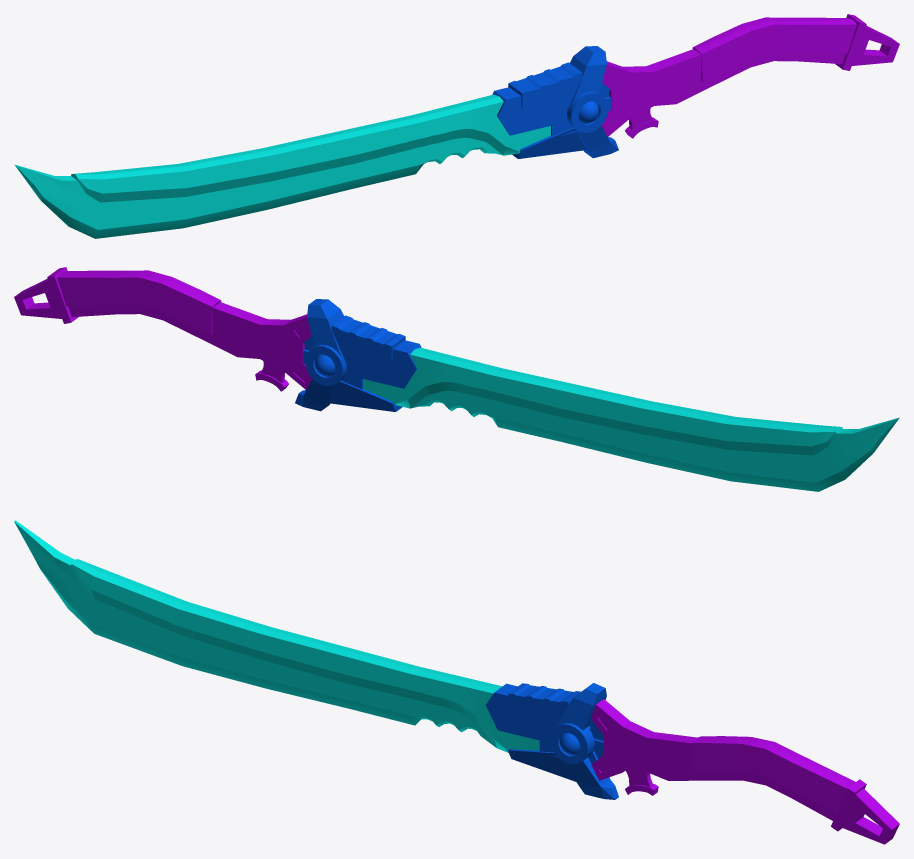
Rendered from Sword03_UVd.fbx.
3 views of the same model, one above another, from view 1: azimuth 30°, elevation 25°; view 2: azimuth 150°, elevation 25°; view 3: azimuth 330°, elevation 25° (orthographic).
Parts seen in each view (by area): view 1: blade, hilt, pCube2, pCube6, pCube4, pCube3, pCylinder1, trigger; view 2: blade, hilt, pCube2, pCube6, pCube4, pCube3, pCylinder1, trigger; view 3: blade, hilt, pCube6, pCube2, pCube4, pCylinder1, pCube3.
Boxes of the visible parts, left/top/right/bottom form: blade: left=14, top=94, right=550, bottom=238; hilt: left=601, top=14, right=899, bottom=136; pCube2: left=508, top=62, right=582, bottom=118; pCube6: left=569, top=46, right=618, bottom=158; pCube4: left=492, top=87, right=576, bottom=136; pCube3: left=512, top=127, right=586, bottom=158; pCylinder1: left=567, top=91, right=608, bottom=132; trigger: left=625, top=108, right=658, bottom=138; blade: left=363, top=347, right=899, bottom=491; hilt: left=14, top=267, right=312, bottom=389; pCube2: left=331, top=315, right=405, bottom=371; pCube6: left=295, top=299, right=344, bottom=411; pCube4: left=341, top=340, right=421, bottom=389; pCube3: left=327, top=380, right=402, bottom=411; pCylinder1: left=305, top=344, right=346, bottom=385; trigger: left=255, top=361, right=288, bottom=391; blade: left=14, top=520, right=539, bottom=754; hilt: left=590, top=699, right=899, bottom=844; pCube6: left=555, top=683, right=618, bottom=799; pCube2: left=508, top=683, right=580, bottom=730; pCube4: left=485, top=683, right=557, bottom=757; pCylinder1: left=550, top=723, right=595, bottom=764; pCube3: left=507, top=749, right=575, bottom=781.
Bounding box in the file's own units: 164 × 23.28 × 8.61.
